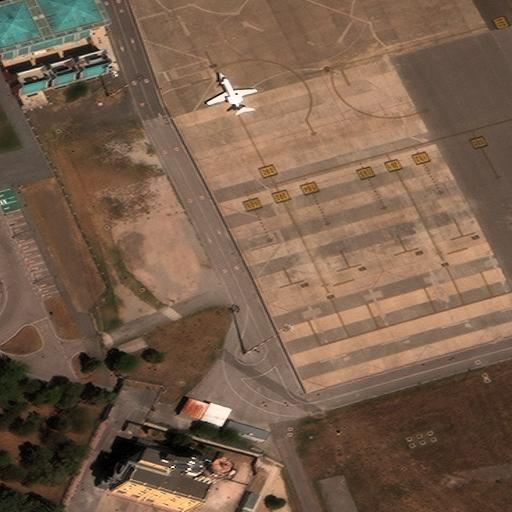Small Civil Transport: (206, 71, 255, 112)
